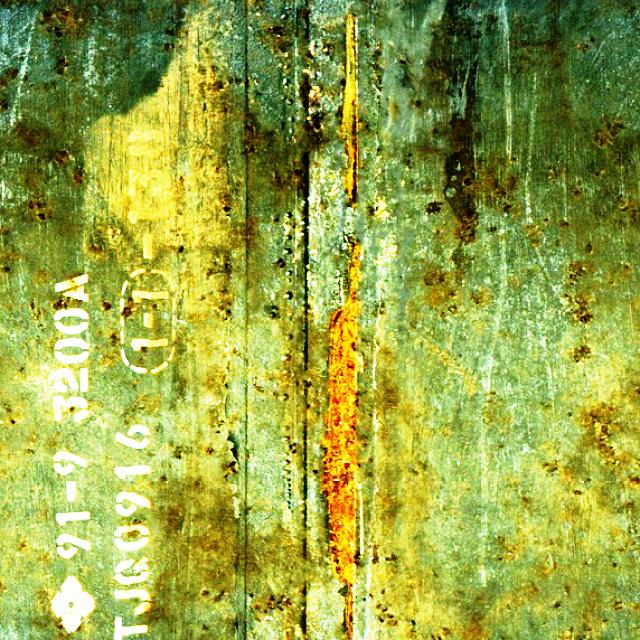Corrosion: (321, 244, 361, 633), (341, 13, 357, 200)
